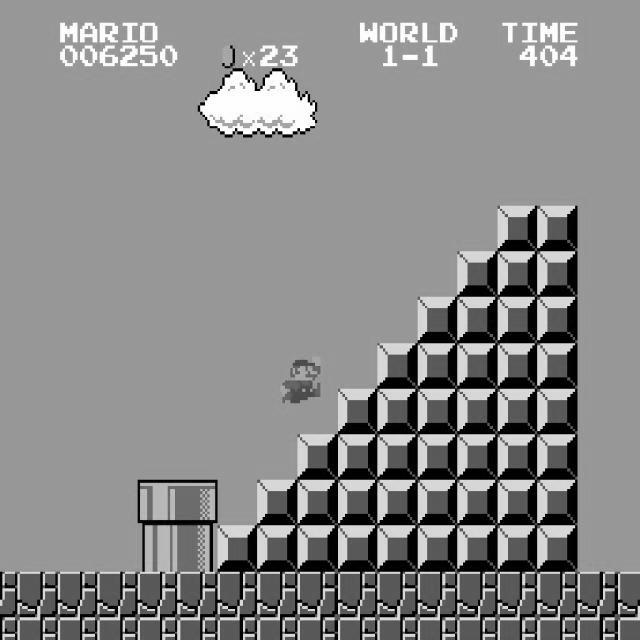11- little_mario: (277, 354, 320, 402)
14- pipe: (137, 526, 178, 572), (177, 526, 218, 572)
15- pipe_head: (137, 480, 178, 526), (177, 480, 218, 526)
17- undestructible_block: (17, 572, 58, 618), (57, 572, 98, 618), (97, 572, 138, 618), (137, 572, 178, 618), (177, 572, 218, 618), (217, 572, 258, 618), (257, 572, 298, 618), (297, 572, 338, 618), (337, 572, 378, 618), (377, 572, 418, 618), (417, 572, 458, 618), (457, 572, 498, 618), (497, 572, 538, 618), (537, 572, 578, 618), (577, 572, 618, 618), (618, 572, 640, 618), (17, 617, 58, 640), (57, 617, 98, 640), (97, 617, 138, 640), (137, 617, 178, 640), (177, 617, 218, 640), (217, 617, 258, 640), (257, 617, 298, 640), (297, 617, 338, 640), (337, 617, 378, 640), (377, 617, 418, 640), (417, 617, 458, 640), (457, 617, 498, 640), (497, 617, 538, 640), (537, 617, 578, 640), (577, 617, 618, 640), (0, 571, 17, 617), (618, 617, 640, 640), (0, 617, 17, 639)
9- hard_block: (217, 526, 258, 572), (257, 480, 298, 526), (257, 526, 298, 572), (297, 434, 338, 480), (297, 480, 338, 526), (297, 526, 338, 572), (337, 388, 378, 434), (337, 434, 378, 480), (337, 480, 378, 526), (337, 526, 378, 572), (377, 388, 418, 434), (377, 434, 418, 480), (377, 480, 418, 526), (377, 526, 418, 572), (417, 297, 458, 343), (417, 388, 458, 434), (417, 434, 458, 480), (417, 480, 458, 526), (417, 526, 458, 572), (457, 252, 498, 298), (457, 297, 498, 343), (457, 388, 498, 434), (457, 434, 498, 480), (457, 480, 498, 526), (457, 526, 498, 572), (497, 252, 538, 298), (497, 297, 538, 343), (497, 388, 538, 434), (497, 434, 538, 480), (497, 480, 538, 526), (497, 526, 538, 572), (537, 252, 578, 298), (537, 297, 578, 343), (537, 388, 578, 434), (537, 434, 578, 480), (537, 480, 578, 526), (537, 526, 578, 572), (377, 343, 418, 388), (417, 343, 458, 388), (457, 343, 498, 388), (497, 206, 538, 251), (497, 343, 538, 388), (537, 206, 578, 251), (537, 343, 578, 388)
